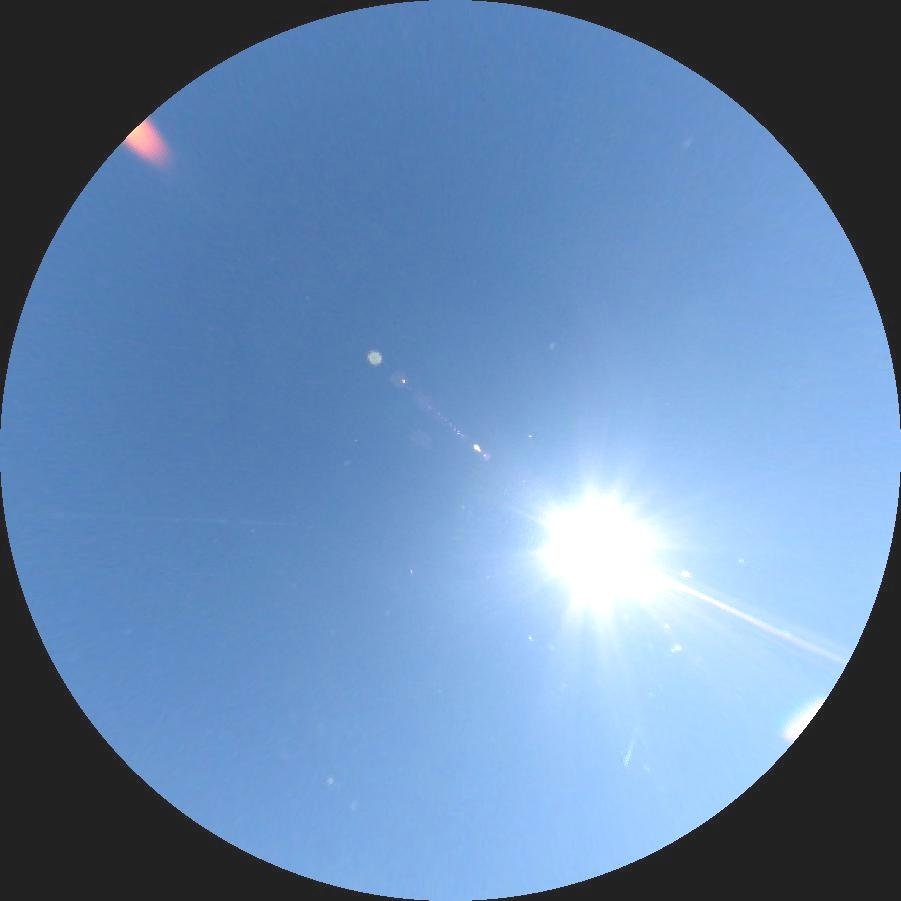contrail young: (620, 724, 641, 769)
parasite: (647, 568, 847, 666)
sun: (537, 486, 656, 609)
